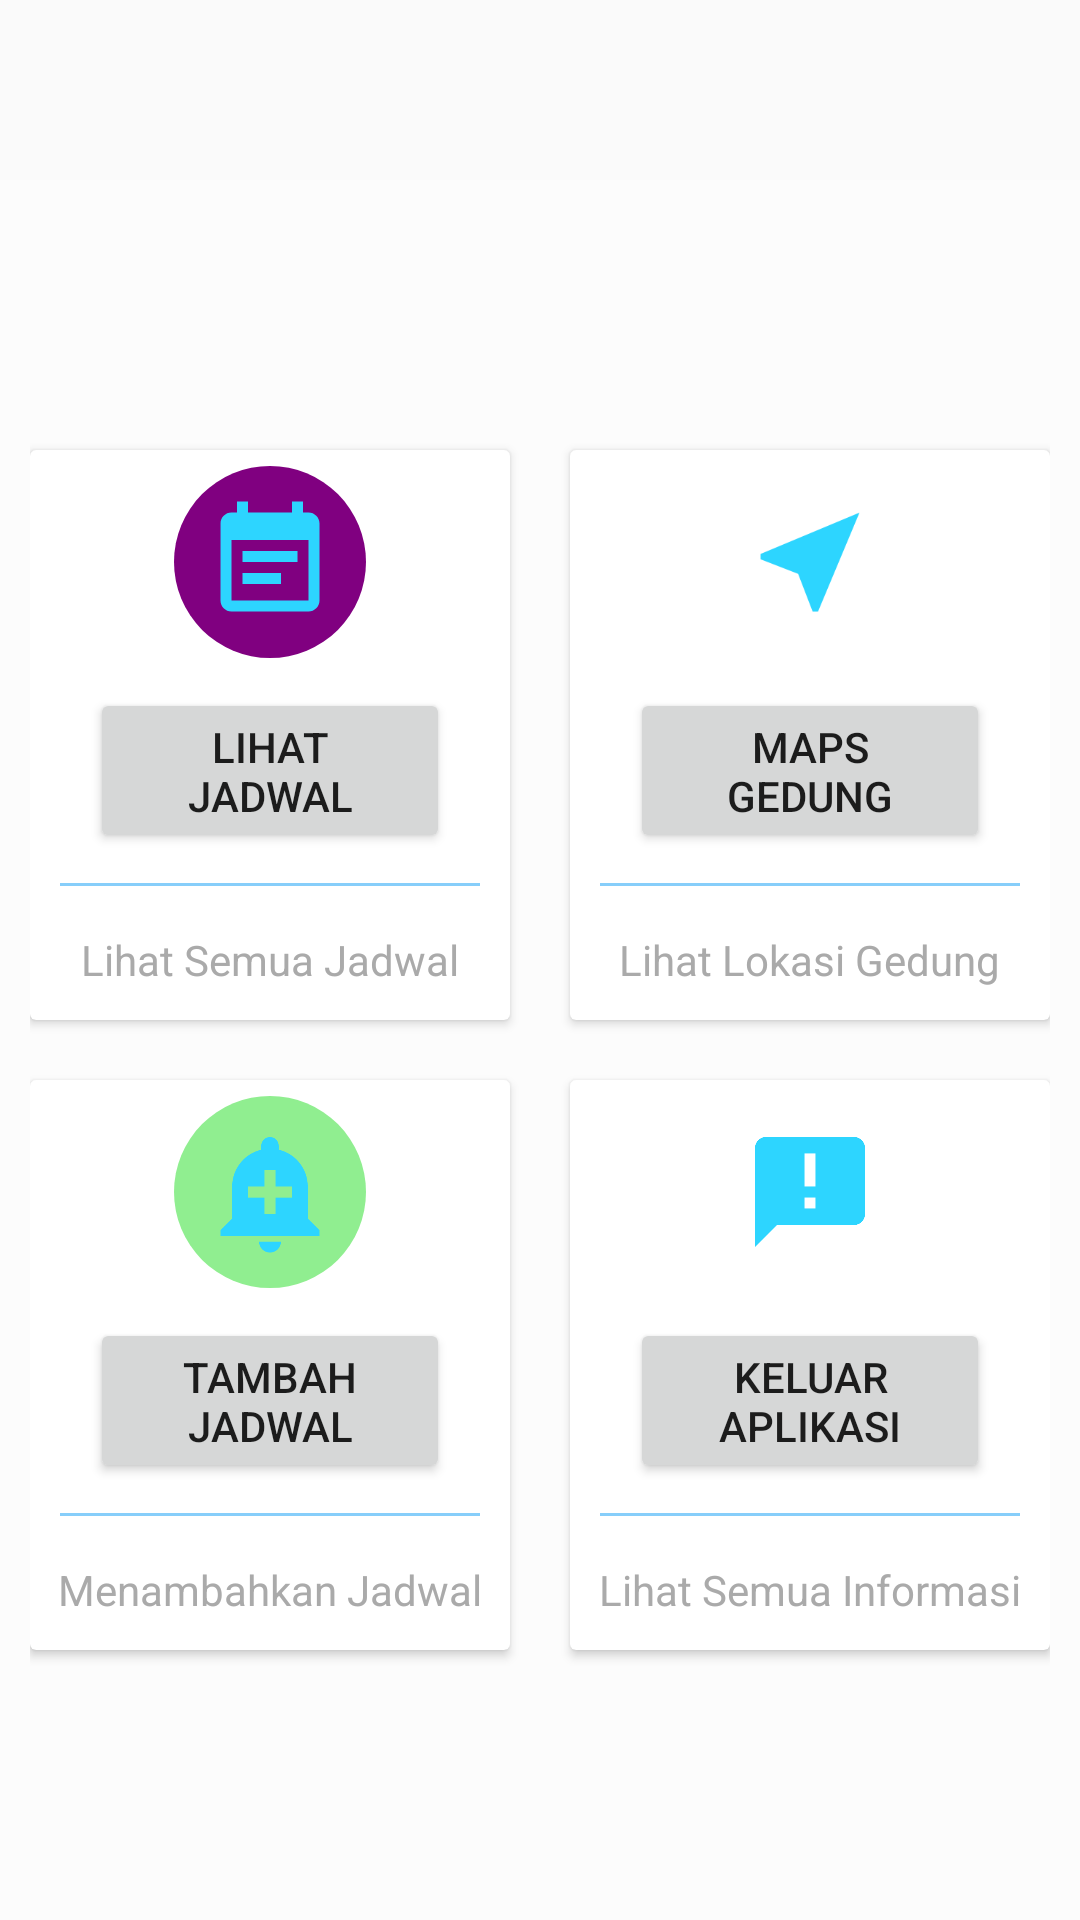

Named icons in this screenshot (1080*1920) and their bounding boxes, {"left": x1, "top": y1, "right": x2, "bottom": y2}:
add alert: {"left": 174, "top": 1096, "right": 366, "bottom": 1288}
announcement: {"left": 755, "top": 1137, "right": 865, "bottom": 1247}
event note: {"left": 174, "top": 466, "right": 366, "bottom": 658}
near me: {"left": 760, "top": 513, "right": 860, "bottom": 612}
